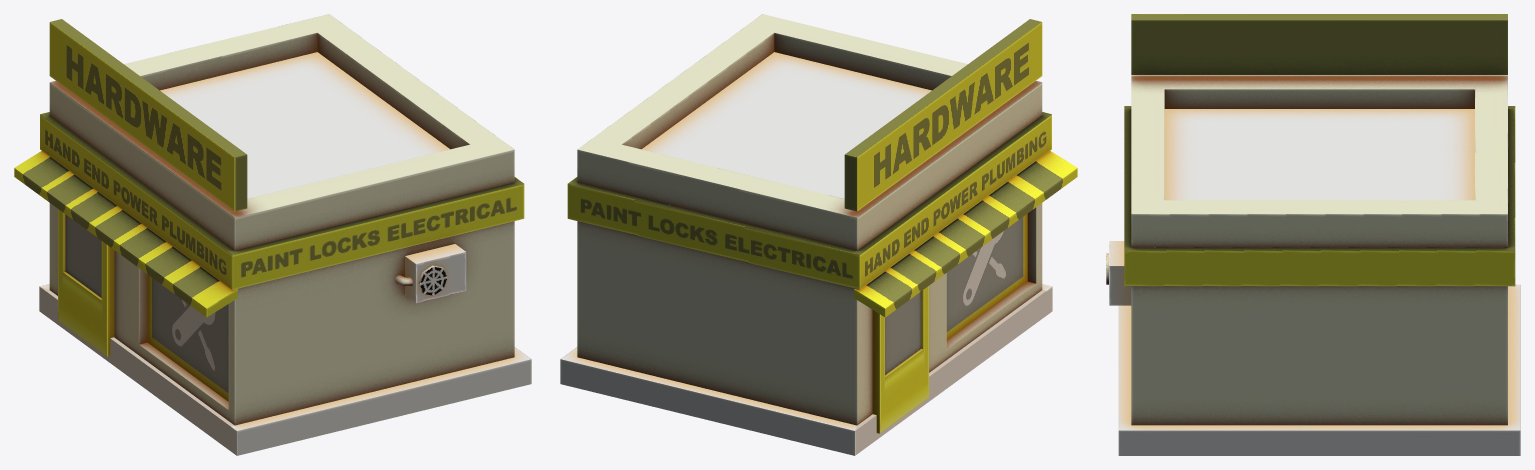
File: Hardware Store.glb
The picture shows the model from 3 angles, left to right: view 1: azimuth 30°, elevation 25°; view 2: azimuth 150°, elevation 25°; view 3: azimuth 270°, elevation 25°; orthographic projection.
Parts seen in each view (by area): view 1: Plane010; view 2: Plane010; view 3: Plane010.
Boxes of the visible parts, left/top/right/bottom form: Plane010: left=14, top=14, right=531, bottom=455; Plane010: left=560, top=14, right=1077, bottom=455; Plane010: left=1106, top=14, right=1520, bottom=455.
Size of the model in its own units: 2.59 by 2.25 by 2.84.
1 material, 1 textured.
